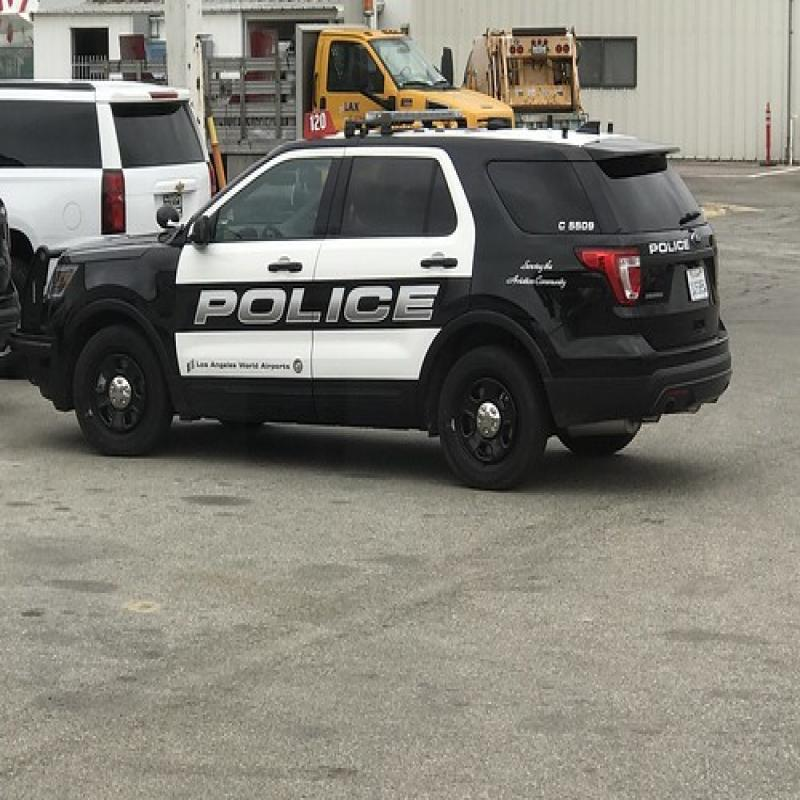AmbulanceSiren: (336, 101, 482, 132)
